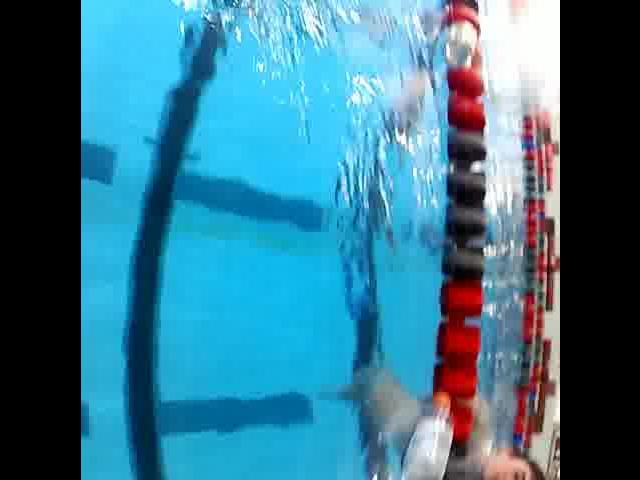Bottle: (394, 388, 456, 480)
